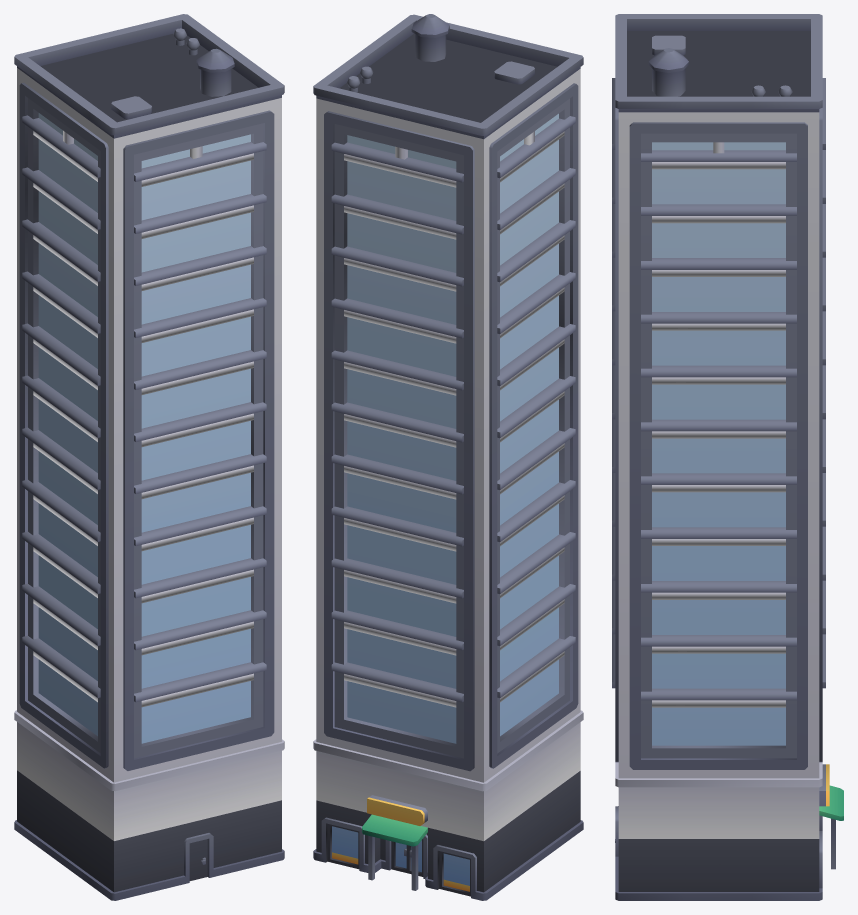
Rendered from commercial-building-skyscraper-d.glb.
3 views of the same model, side by side, from view 1: azimuth 30°, elevation 25°; view 2: azimuth 150°, elevation 25°; view 3: azimuth 270°, elevation 25° (orthographic). The views are drawn at different scales.
Parts seen in each view (by area): view 1: building-skyscraper-d; view 2: building-skyscraper-d; view 3: building-skyscraper-d.
Part boxes in pixels (x1=…): building-skyscraper-d: x1=14, y1=14, x2=284, y2=900; building-skyscraper-d: x1=313, y1=14, x2=583, y2=900; building-skyscraper-d: x1=612, y1=14, x2=843, y2=900.
Size of the model in its own units: 1.28 by 5.47 by 1.39.
Materials: 1 (1 with a texture image).
